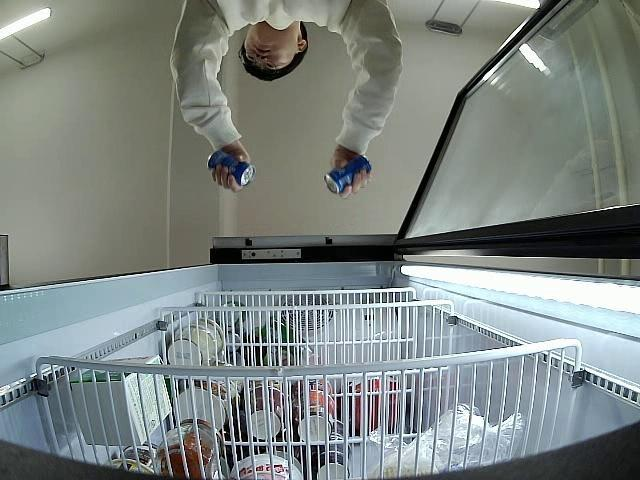15_letsbe: (324, 152, 372, 195), (207, 148, 256, 189)
